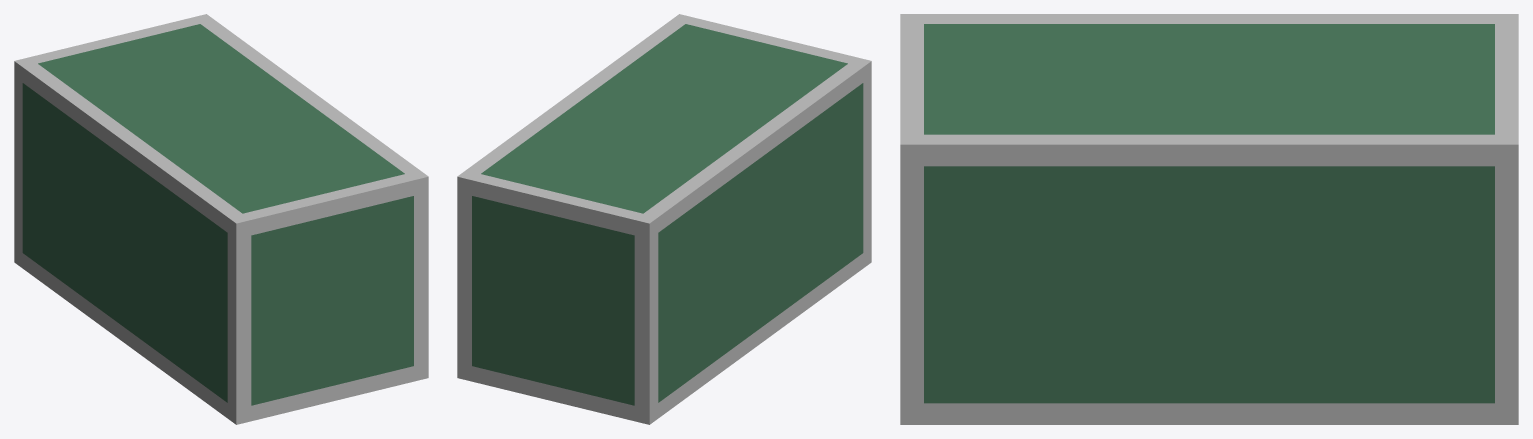
Rendered from cargo01.fbx.
3 views of the same model, side by side, from view 1: azimuth 30°, elevation 25°; view 2: azimuth 150°, elevation 25°; view 3: azimuth 270°, elevation 25° (orthographic). The views are drawn at different scales.
Parts seen in each view (by area): view 1: cargo_01; view 2: cargo_01; view 3: cargo_01.
Boxes of the visible parts, bbox=[...] form: cargo_01: bbox=[14, 14, 428, 424]; cargo_01: bbox=[457, 14, 871, 424]; cargo_01: bbox=[900, 14, 1518, 424].
Bounding box in the file's own units: 1.3 × 2.59 × 1.3.
